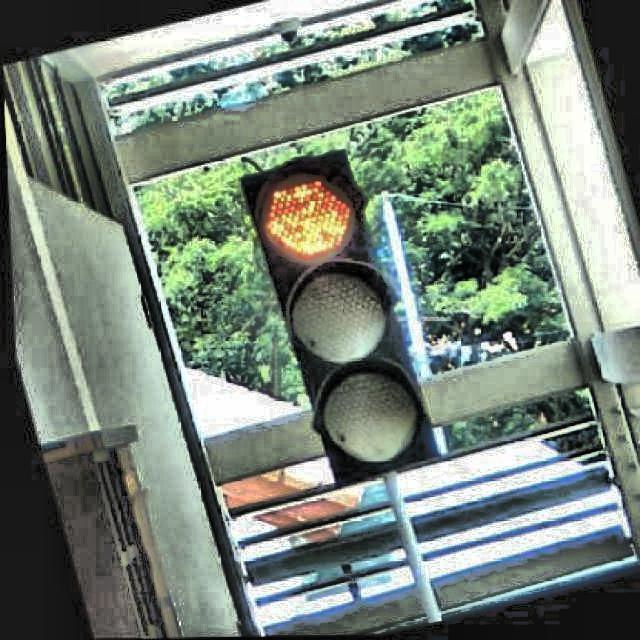red: (233, 171, 442, 464)
